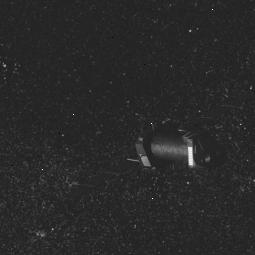xmm_newton: (118, 119, 222, 178)
